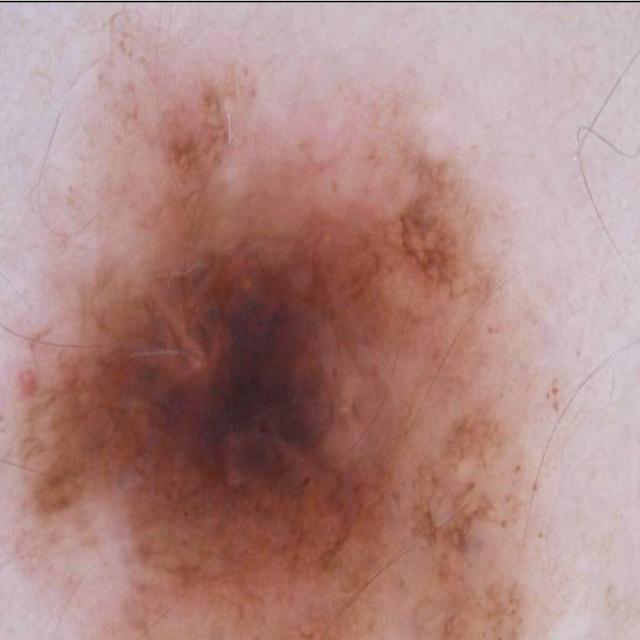Melanoma: (0, 80, 582, 640)
